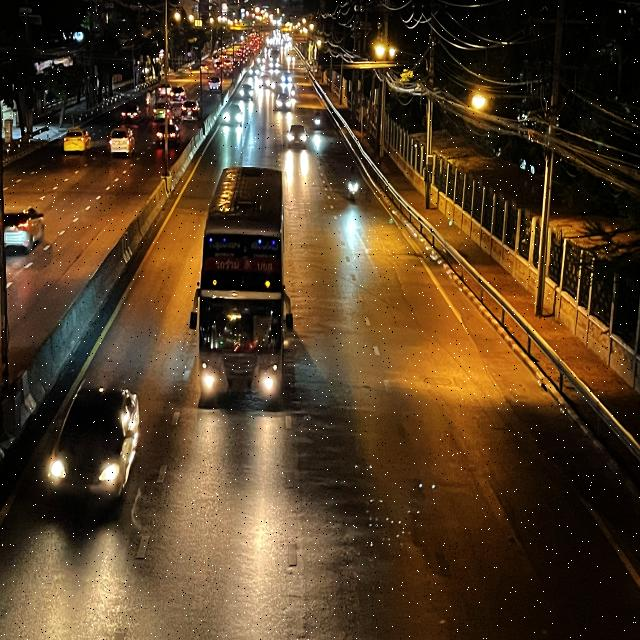bike: (344, 160, 361, 206)
bus: (190, 165, 293, 407)
car: (45, 381, 140, 511)
